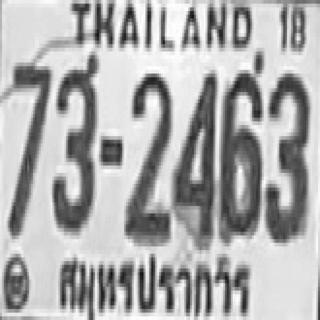N02: (125, 66, 170, 239)
N03: (50, 52, 97, 228), (264, 70, 308, 239)
N04: (173, 70, 215, 239)
N06: (219, 68, 260, 234)
N07: (8, 59, 50, 232)
P57: (54, 246, 252, 320)
